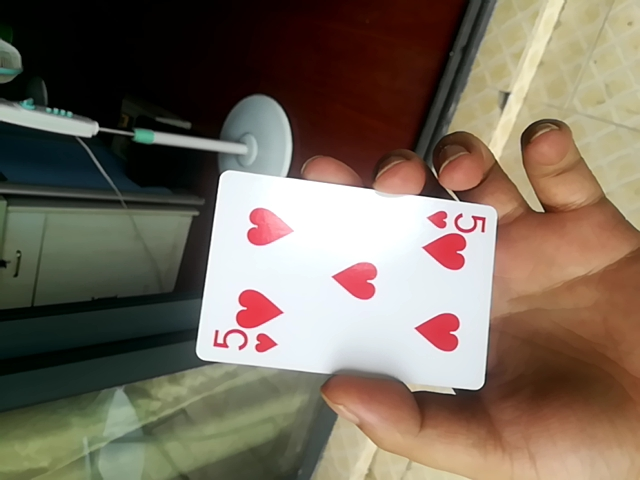hx 5: (191, 171, 497, 396)
